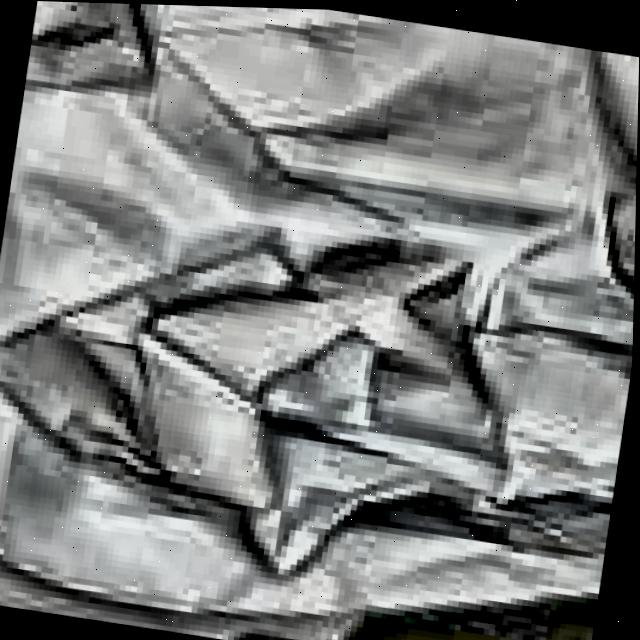paper: (0, 1, 639, 640)
